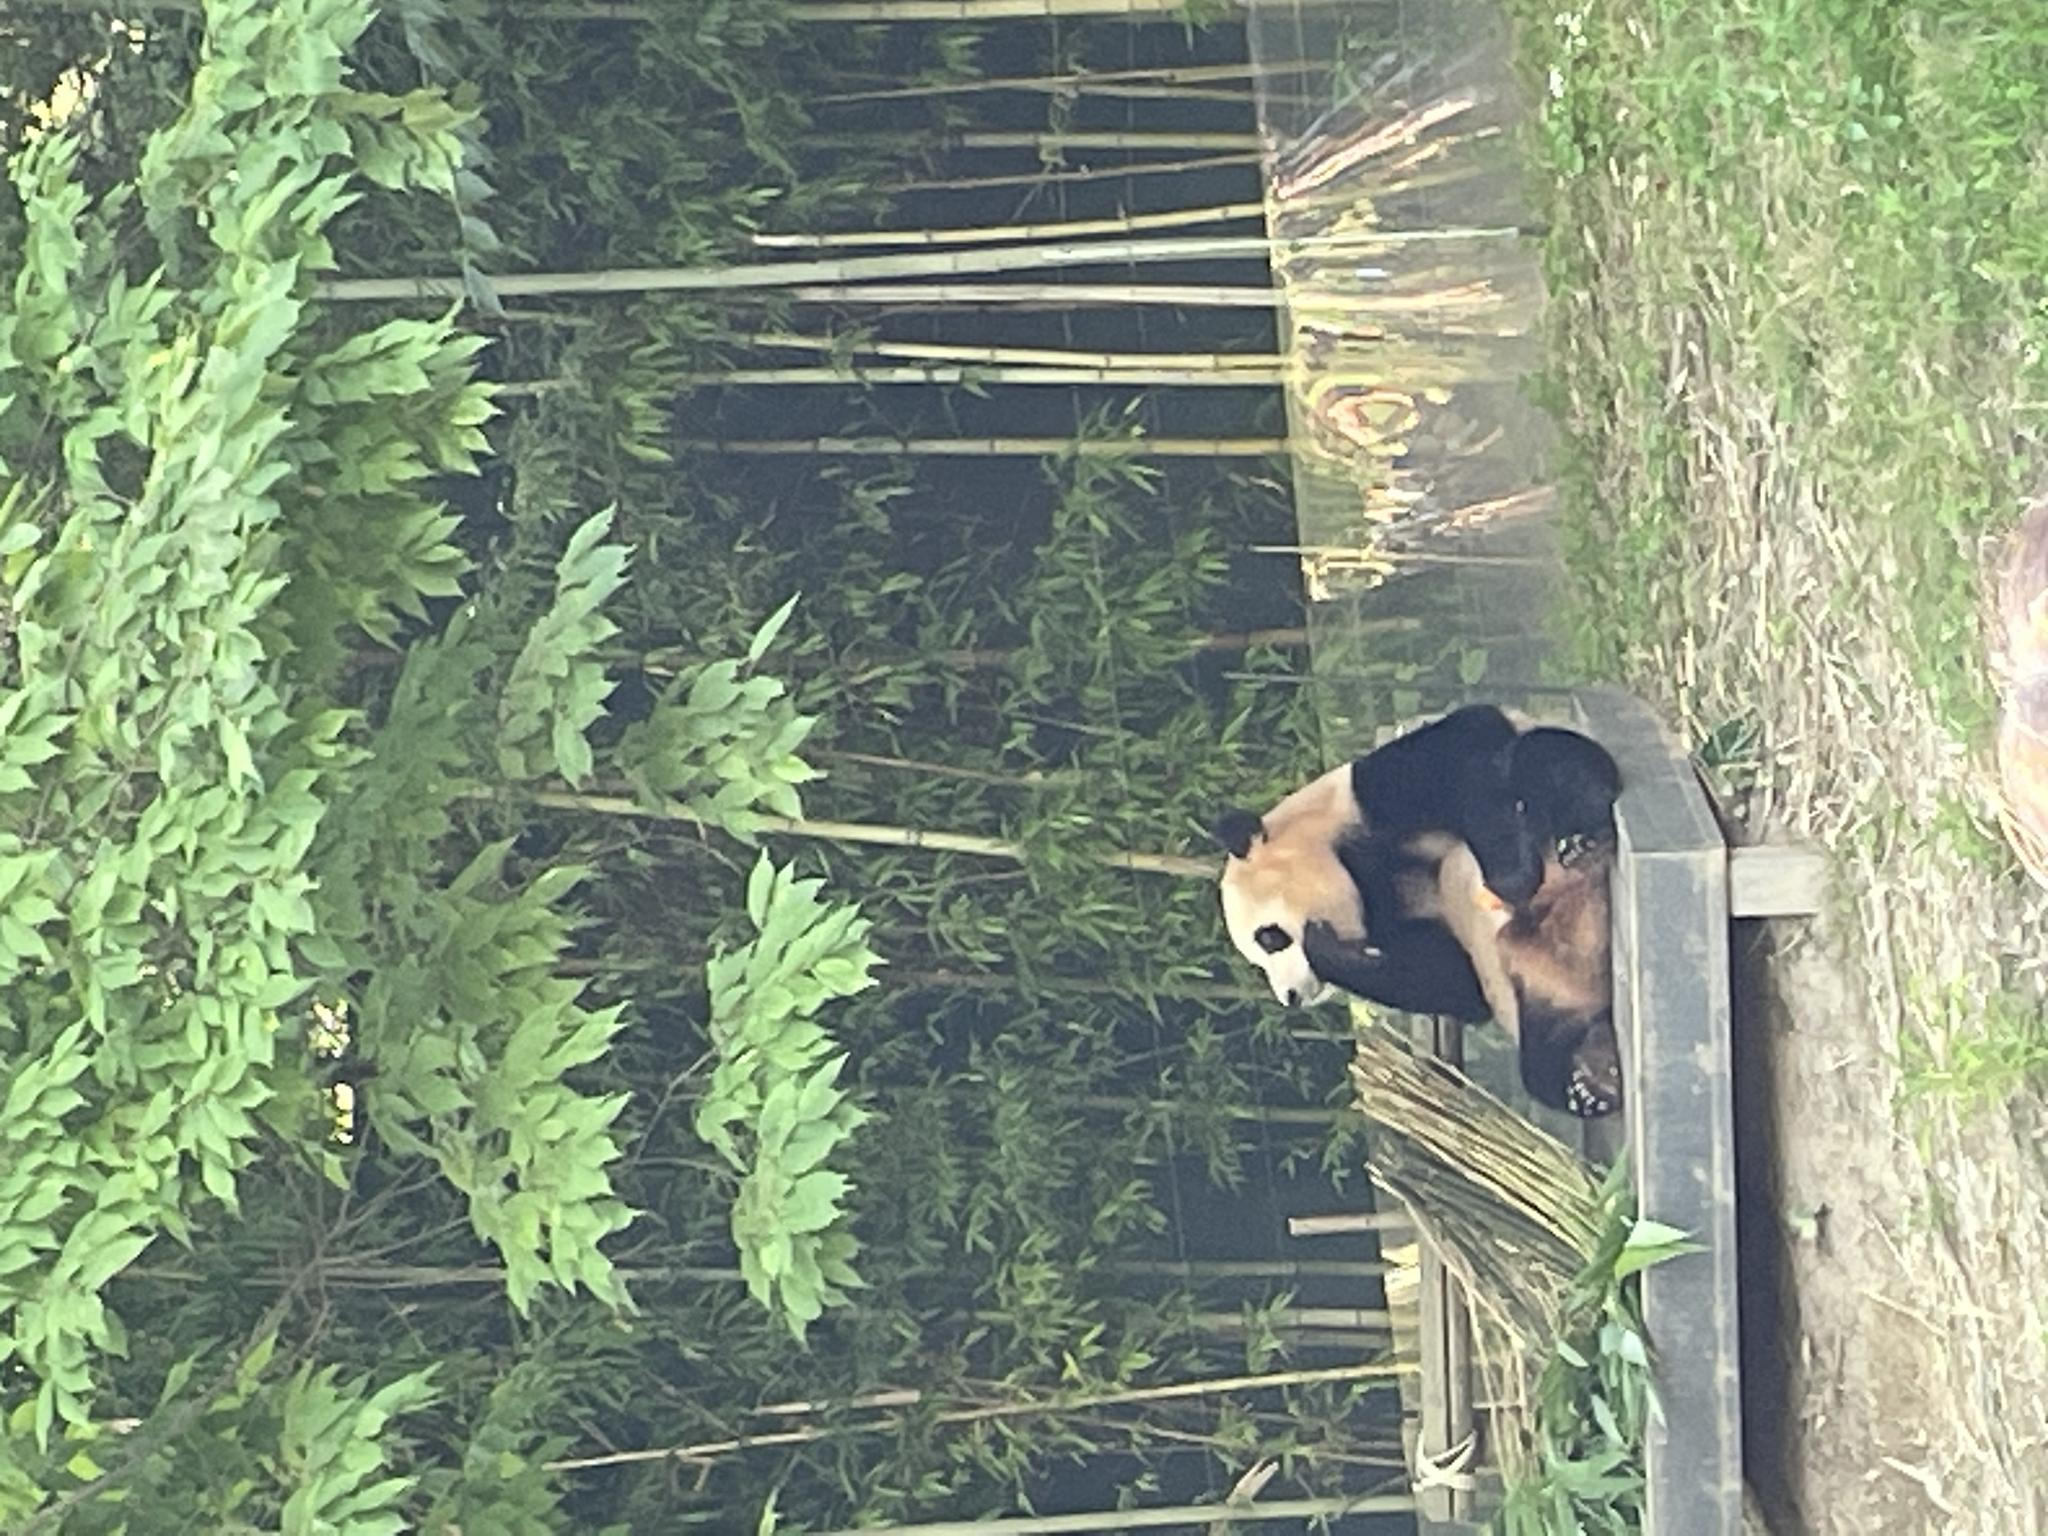panda: (413, 1208, 834, 1536)
